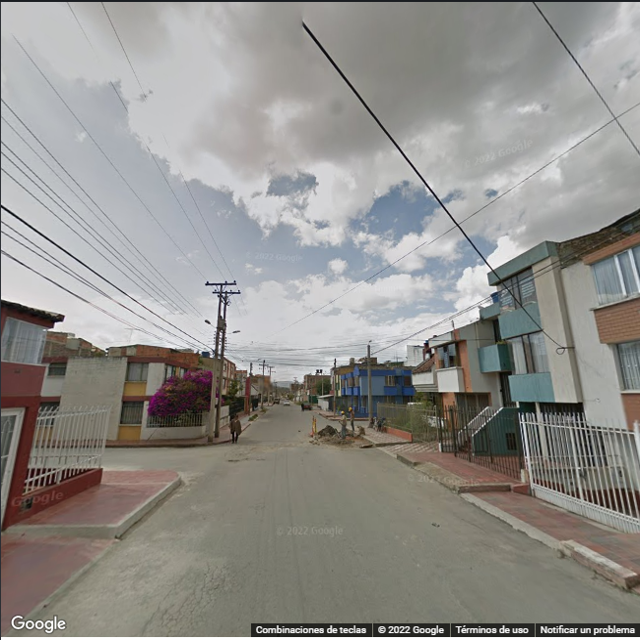D00: (441, 581, 493, 615)
D20: (143, 563, 237, 631)
